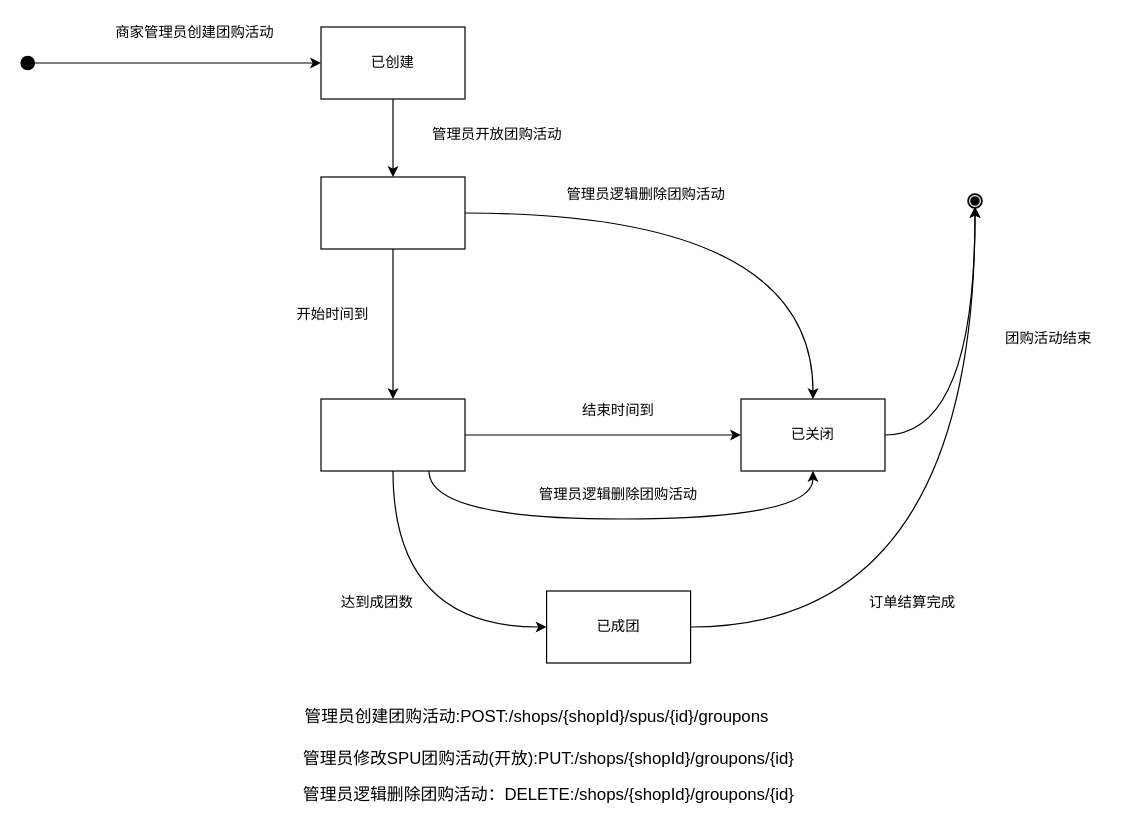
Image size: 1126x827. Some labels were removed from this diagram. The box of each missing label's shape, as (x1, y1, x2, y2) in pixels:
未开始: (320, 176, 465, 249)
组团中: (320, 398, 465, 471)
